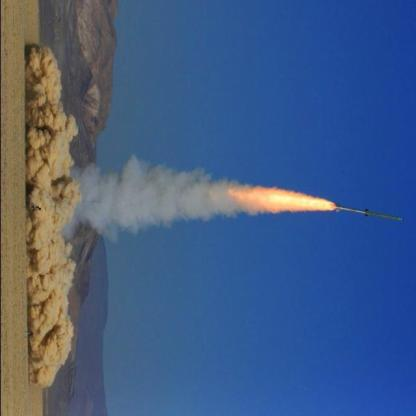MIL_TBM: (332, 203, 408, 222)
